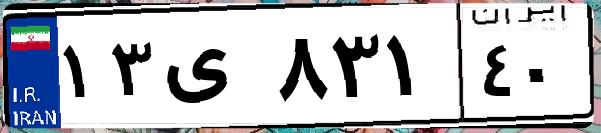0: (525, 38, 570, 115)
1: (385, 28, 445, 110), (57, 26, 110, 100)
3: (330, 28, 385, 110), (110, 28, 158, 98)
4: (475, 38, 525, 113)
8: (270, 28, 330, 110)
ی: (158, 20, 270, 120)
